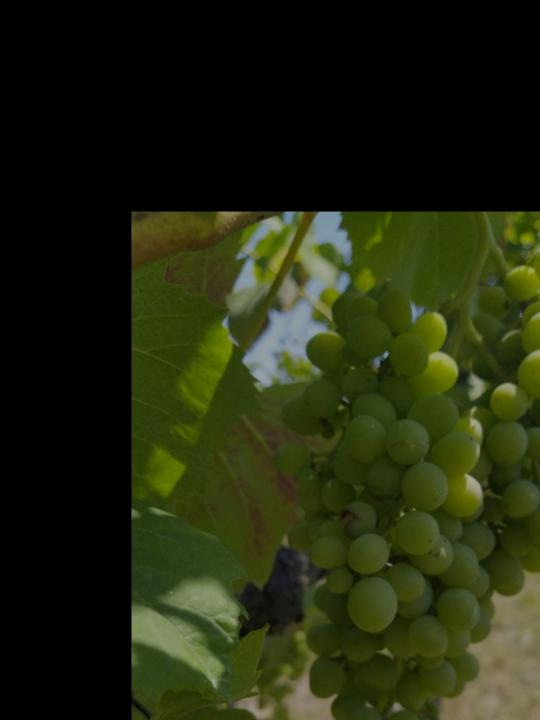grape: (267, 265, 540, 720)
